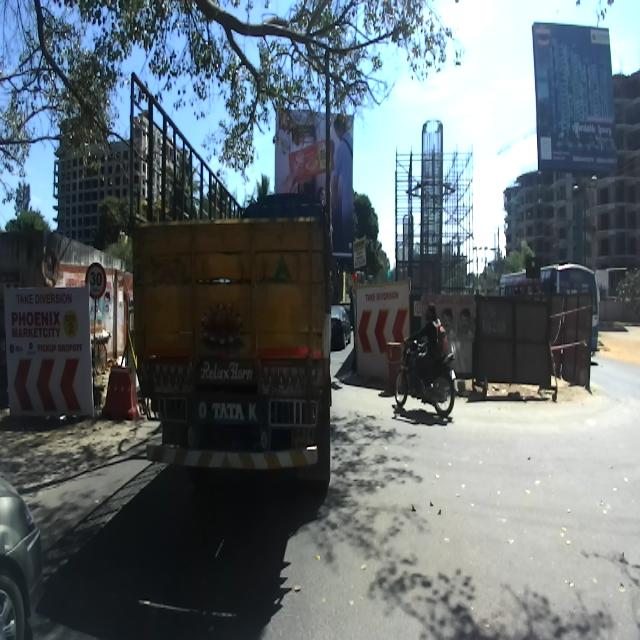barrier ahead at: (5, 282, 94, 418)
motorcycle ahead at: (394, 342, 459, 424)
truck ahead at: (122, 45, 339, 493)
